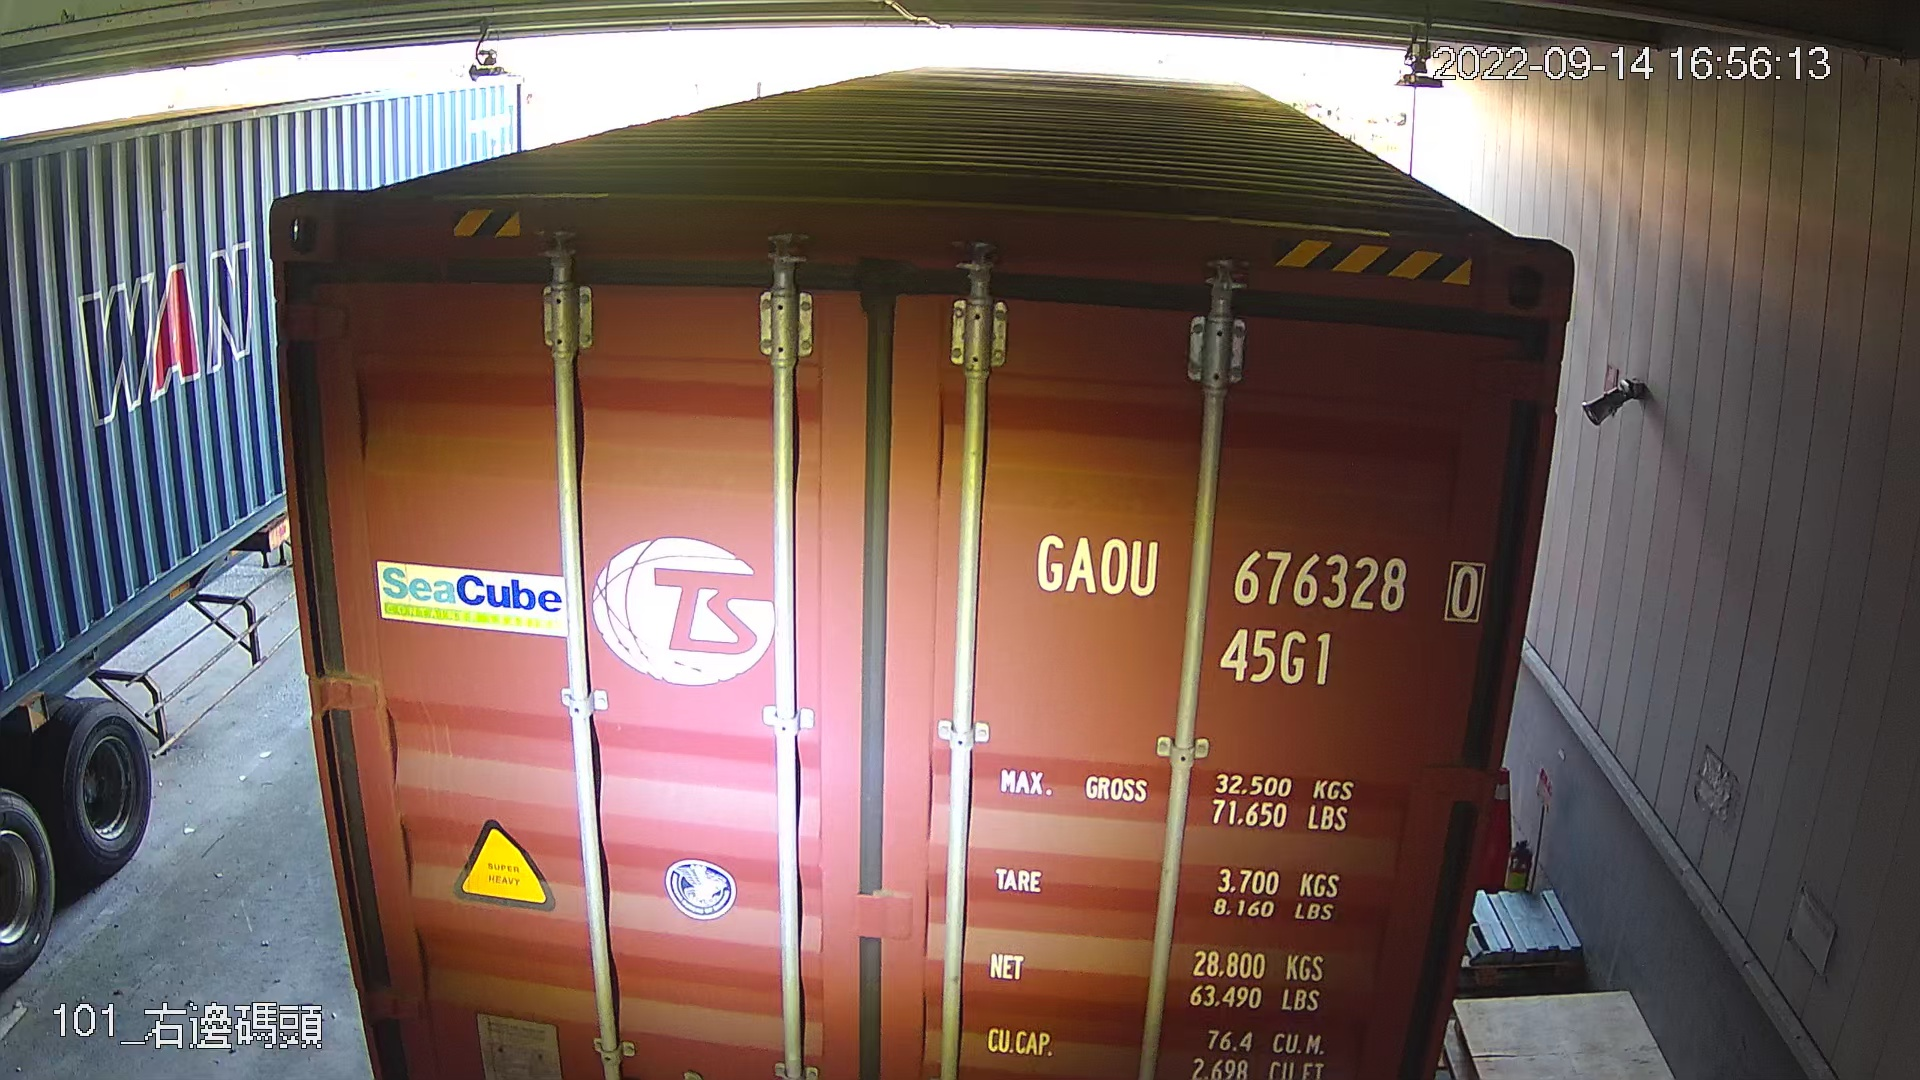container: (1011, 512, 1498, 696)
